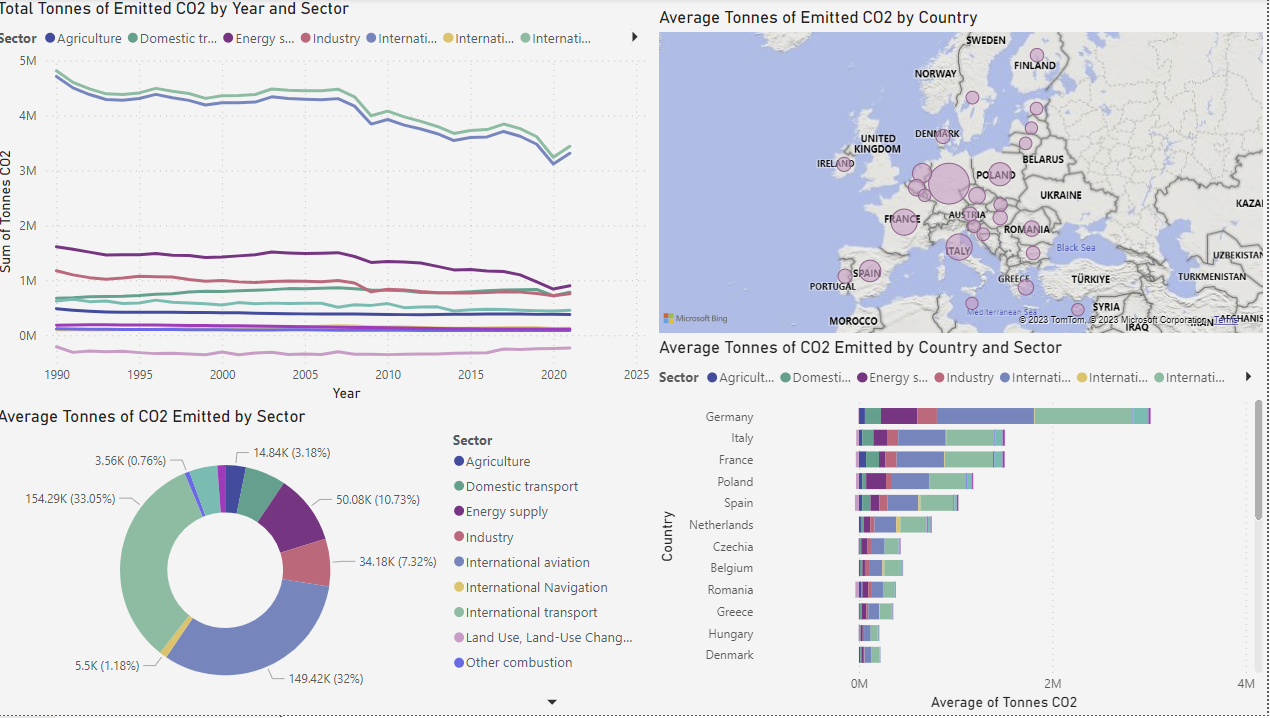

This screenshot's page, from the dashboard's own definition file:
{"tool":"powerbi","page":{"name":"Page 1","canvas":[1280,720],"ordinal":0},"visuals":[{"type":"lineChart","title":"Total Tonnes of Emitted CO2 by Year and Sector","fields":{"Y":["Sum(eu_emissions.Tonnes CO2)"],"Category":["eu_emissions.Year"],"Series":["eu_emissions.Sector Name"]},"box":[0,0,664.5,409.4],"z":0},{"type":"map","title":"Average Tonnes of Emitted CO2 by Country","fields":{"Category":["eu_emissions.Country"],"Size":["Avg(eu_emissions.Tonnes CO2)"]},"box":[664.5,9.4,616.1,331.6],"z":1000},{"type":"actionButton","box":[0,683.3,88.6,36.2],"z":2000},{"type":"donutChart","title":"Average Tonnes of CO2 Emitted by Sector","fields":{"Y":["Avg(eu_emissions.Tonnes CO2)"],"Series":["eu_emissions.Sector Name"]},"box":[0,409.4,664.5,310.1],"z":3000},{"type":"barChart","title":"Average Tonnes of CO2 Emitted by Country and Sector","fields":{"Category":["eu_emissions.Country"],"Y":["Avg(eu_emissions.Tonnes CO2)"],"Series":["eu_emissions.Sector"]},"box":[664.5,341,616.1,378.5],"z":4000}]}

Visuals, with their boxes in screenshot pixels (x1, y1, x2, y2), scaled from the page's 1280x720 canvas onto the 1270x718 screenshot:
"Total Tonnes of Emitted CO2 by Year and Sector" lineChart: 0:0:659:408
"Average Tonnes of Emitted CO2 by Country" map: 659:9:1269:340
actionButton: 0:681:88:717
"Average Tonnes of CO2 Emitted by Sector" donutChart: 0:408:659:717
"Average Tonnes of CO2 Emitted by Country and Sector" barChart: 659:340:1269:717
